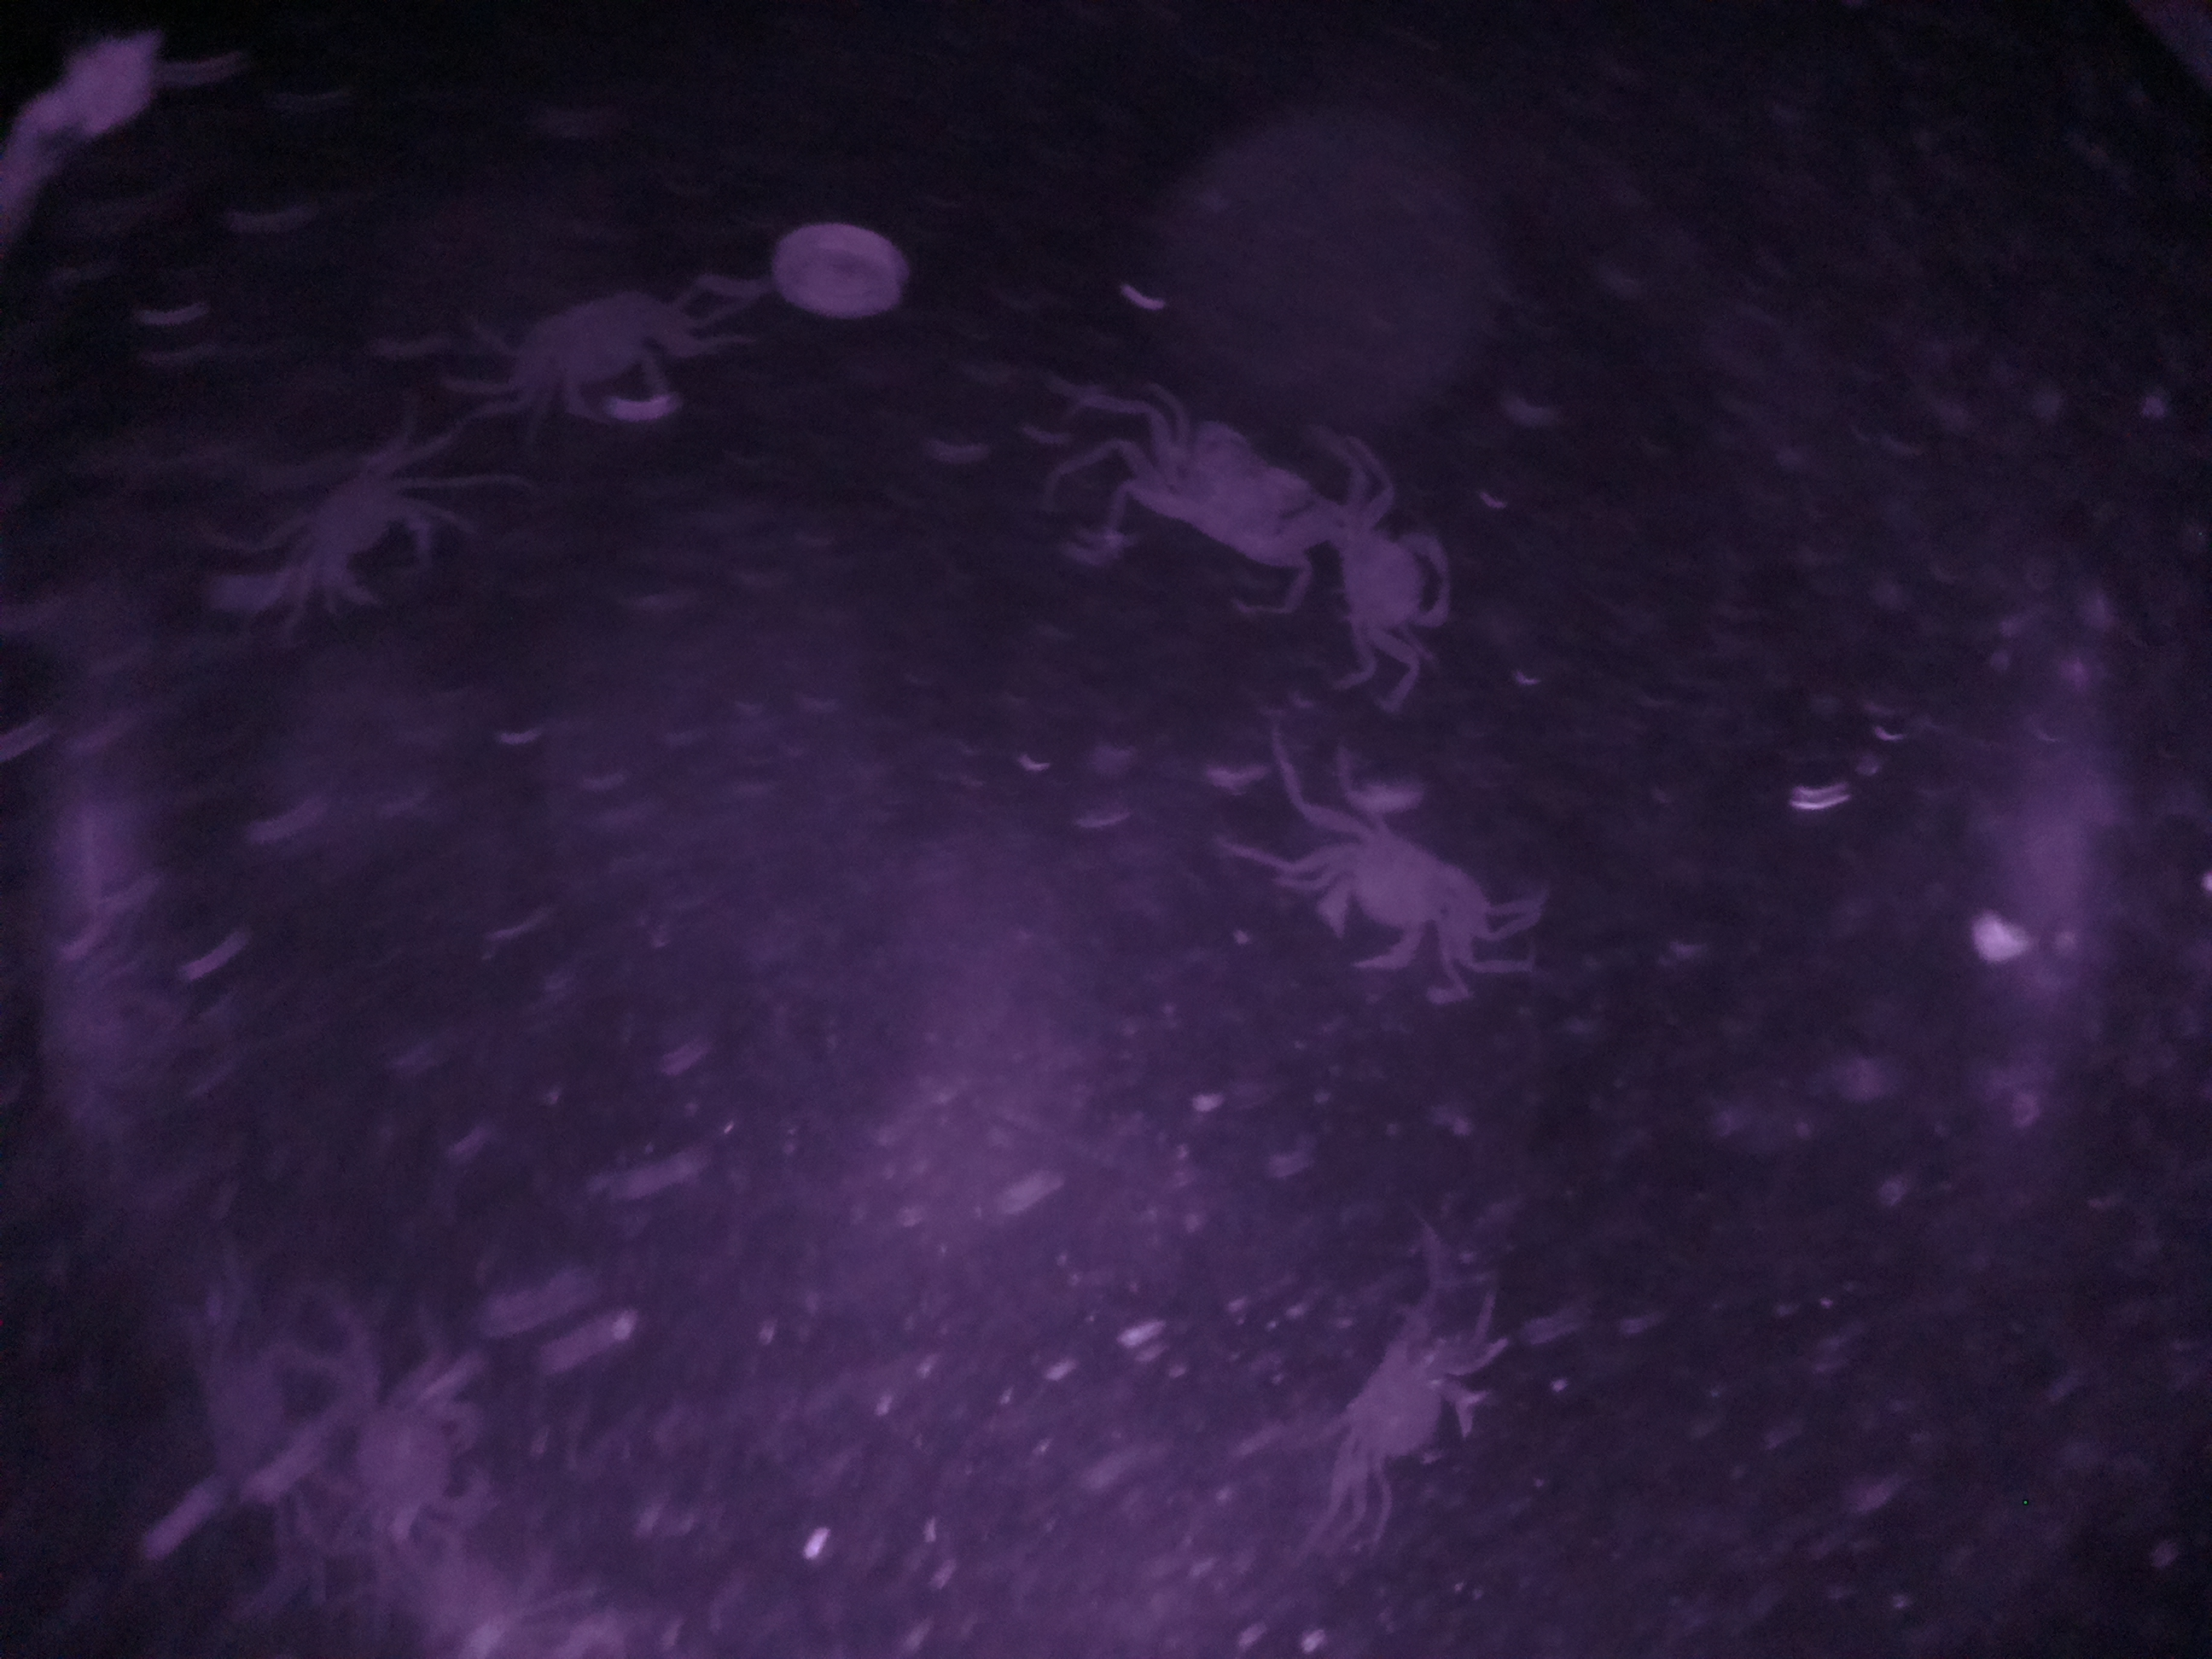Crab: (1258, 763, 1533, 995), (1299, 465, 1479, 701)
